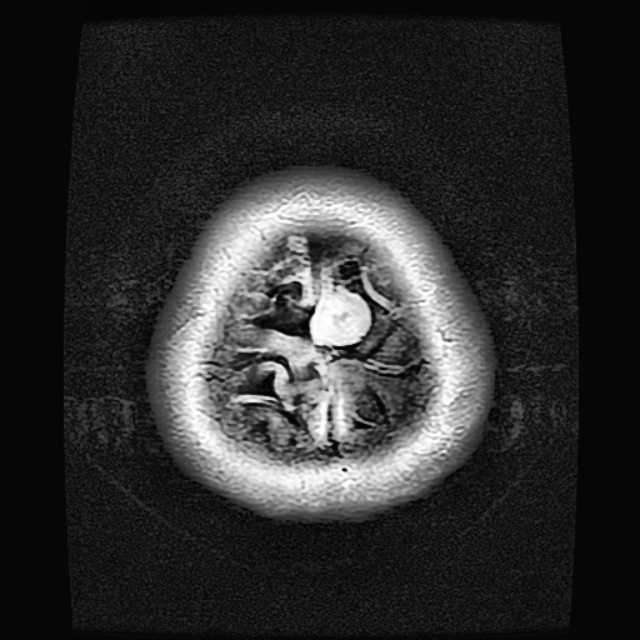Pituitary: (312, 285, 369, 344)
